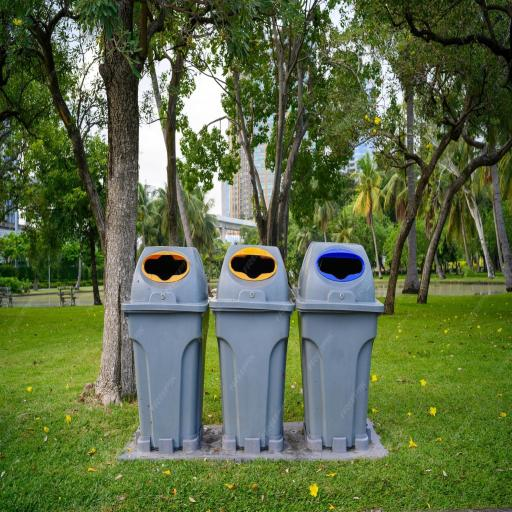Contenedor_Vacio: (122, 242, 387, 460)
